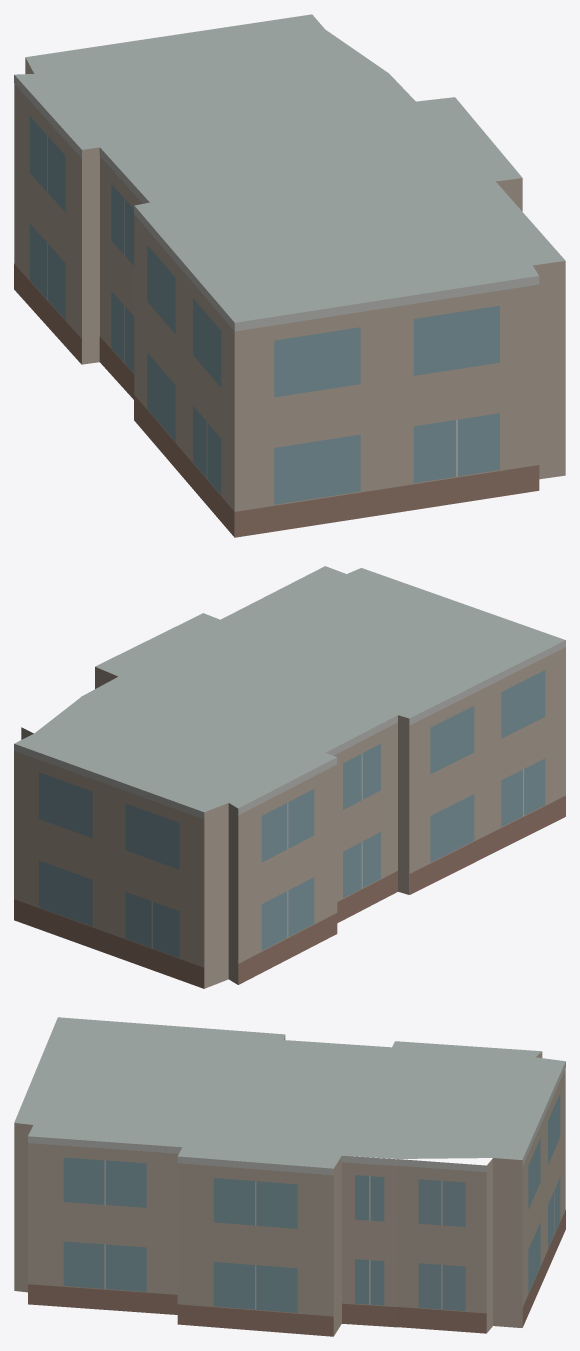
The model's file is survey-upis-32675961.glb.
The picture shows the model from 3 angles, top to bottom: view 1: azimuth 30°, elevation 25°; view 2: azimuth 150°, elevation 25°; view 3: azimuth 270°, elevation 25°; orthographic projection. The views are drawn at different scales.
Parts seen in each view (by area): view 1: survey-upis-32675961.tmp; view 2: survey-upis-32675961.tmp; view 3: survey-upis-32675961.tmp.
Boxes of the visible parts, left/top/right/bottom form: survey-upis-32675961.tmp: left=14, top=14, right=565, bottom=537; survey-upis-32675961.tmp: left=14, top=566, right=565, bottom=988; survey-upis-32675961.tmp: left=14, top=1017, right=565, bottom=1336.
Bounding box in the file's own units: 11.8 × 6.1 × 18.16.
